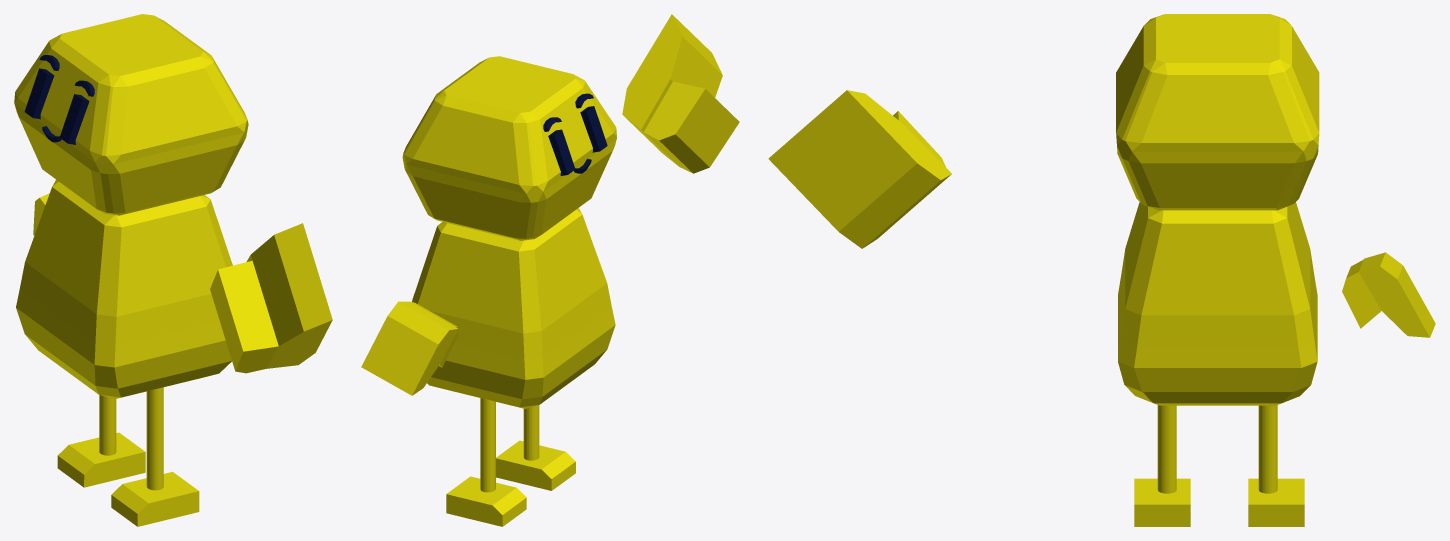
File: player_yellow_slap1.gltf
The picture shows the model from 3 angles, left to right: view 1: azimuth 30°, elevation 25°; view 2: azimuth 150°, elevation 25°; view 3: azimuth 270°, elevation 25°; orthographic projection. The views are drawn at different scales.
Parts seen in each view (by area): view 1: body.013, head.013, hand right.016, foot right.013, foot left.013, leg right.013, leg left.013, Cube.054, Cube.053; view 2: body.013, head.013, hand right.016, hand left.016, foot left.013, foot right.013, leg left.013, leg right.013, Cube.053, Cube.054; view 3: body.013, head.013, hand right.016, hand left.016, foot left.013, foot right.013, leg right.013, leg left.013.
Boxes of the visible parts, x1,y1,x2,y2 form: body.013: [16, 179, 232, 399]; head.013: [14, 14, 248, 215]; hand right.016: [210, 223, 332, 373]; foot right.013: [111, 471, 199, 526]; foot left.013: [57, 432, 145, 487]; leg right.013: [146, 387, 163, 490]; leg left.013: [99, 395, 116, 455]; Cube.054: [24, 68, 54, 119]; Cube.053: [59, 94, 89, 144]; body.013: [412, 208, 615, 408]; head.013: [402, 56, 616, 240]; hand right.016: [622, 14, 739, 173]; hand left.016: [361, 301, 458, 395]; foot left.013: [446, 476, 526, 526]; foot right.013: [496, 440, 575, 490]; leg left.013: [480, 398, 495, 492]; leg right.013: [523, 405, 539, 460]; Cube.053: [580, 106, 607, 152]; Cube.054: [548, 129, 575, 175]; body.013: [1118, 202, 1317, 405]; head.013: [1116, 14, 1319, 210]; hand right.016: [768, 90, 951, 248]; hand left.016: [1342, 252, 1435, 337]; foot left.013: [1248, 478, 1304, 526]; foot right.013: [1134, 478, 1190, 526]; leg right.013: [1157, 405, 1176, 493]; leg left.013: [1258, 405, 1277, 493].
Size of the model in its own units: 1.82 by 4.76 by 6.08.
